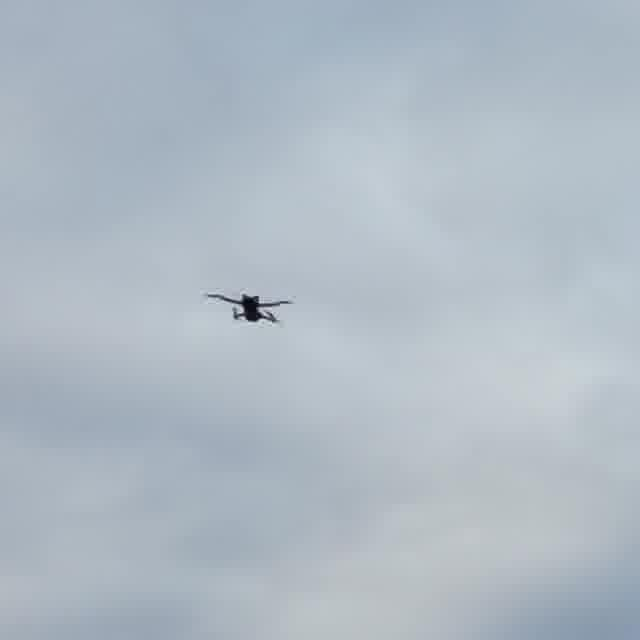Drohne: (206, 293, 292, 323)
